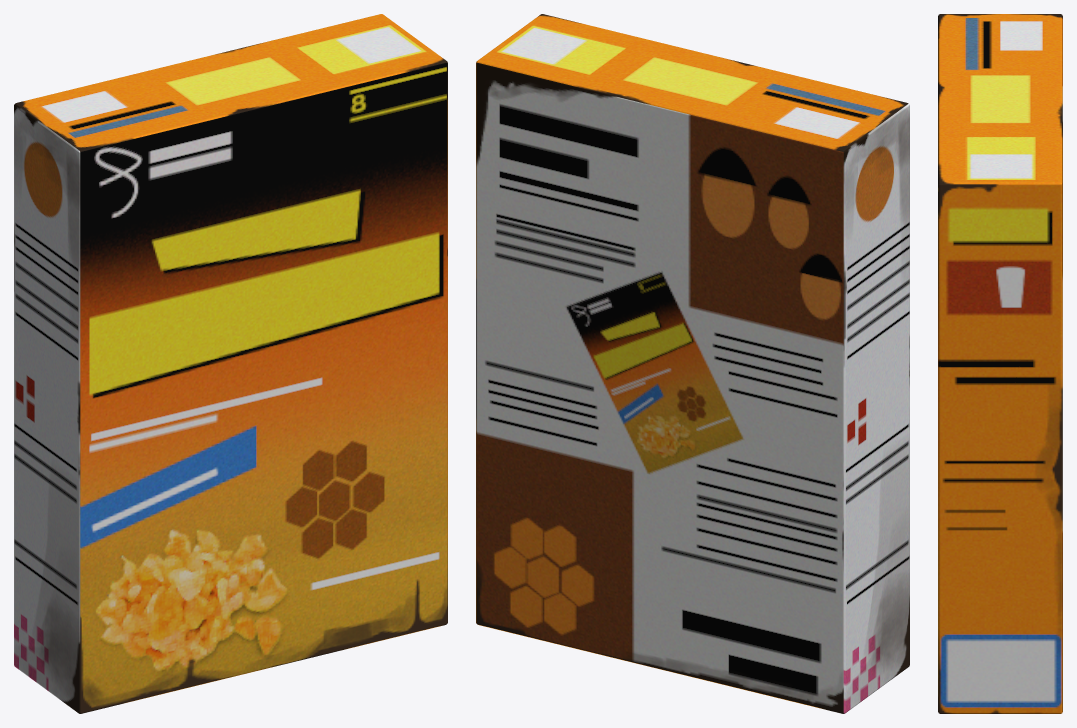
Rendered from SM_Cereal_Box_B.fbx.
The picture shows the model from 3 angles, left to right: view 1: azimuth 30°, elevation 25°; view 2: azimuth 150°, elevation 25°; view 3: azimuth 270°, elevation 25°; orthographic projection. The views are drawn at different scales.
Parts seen in each view (by area): view 1: SM_Cereal_Box_B_LOD0; view 2: SM_Cereal_Box_B_LOD0; view 3: SM_Cereal_Box_B_LOD0.
Part boxes in pixels (x1,y1,x2,y2): SM_Cereal_Box_B_LOD0: (14,14,447,713); SM_Cereal_Box_B_LOD0: (476,14,909,713); SM_Cereal_Box_B_LOD0: (938,14,1062,713).
Bounding box in the file's own units: 24.62 × 7.64 × 35.9.
Materials: 1 (1 with a texture image).
